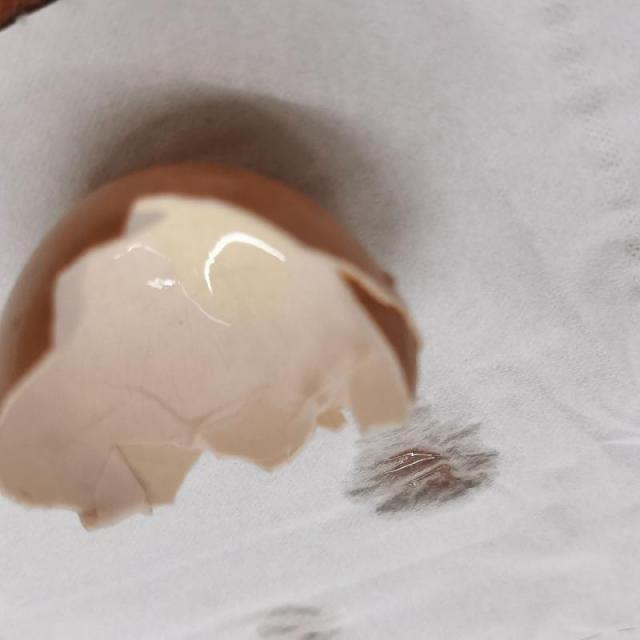egg shell: (5, 148, 419, 532)
